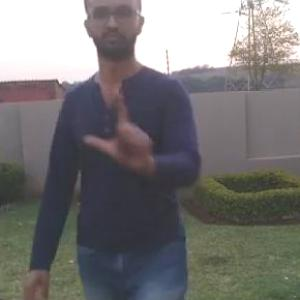land_hand: (83, 84, 162, 173)
